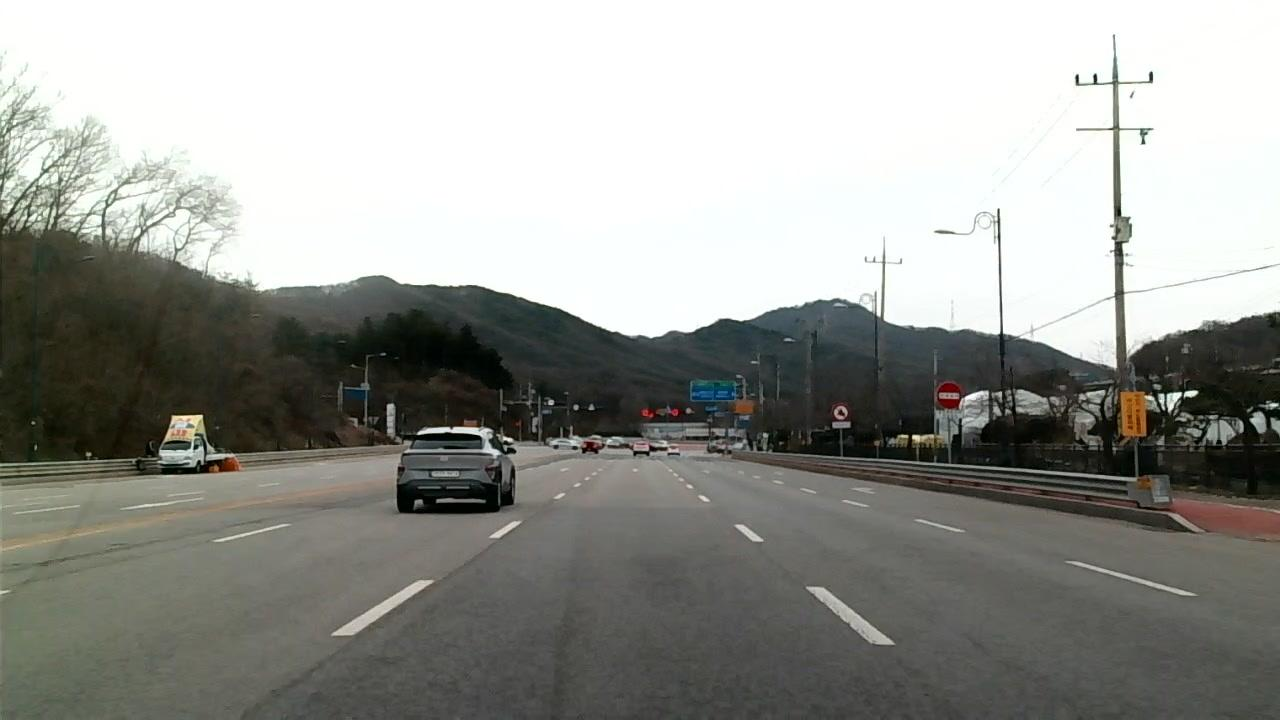banner: (231, 638, 351, 720), (1, 535, 170, 582)
